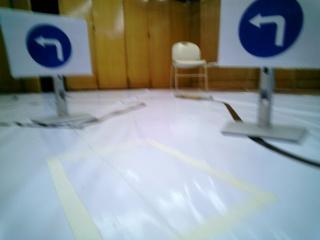left: (10, 11, 92, 73), (230, 5, 310, 68)
